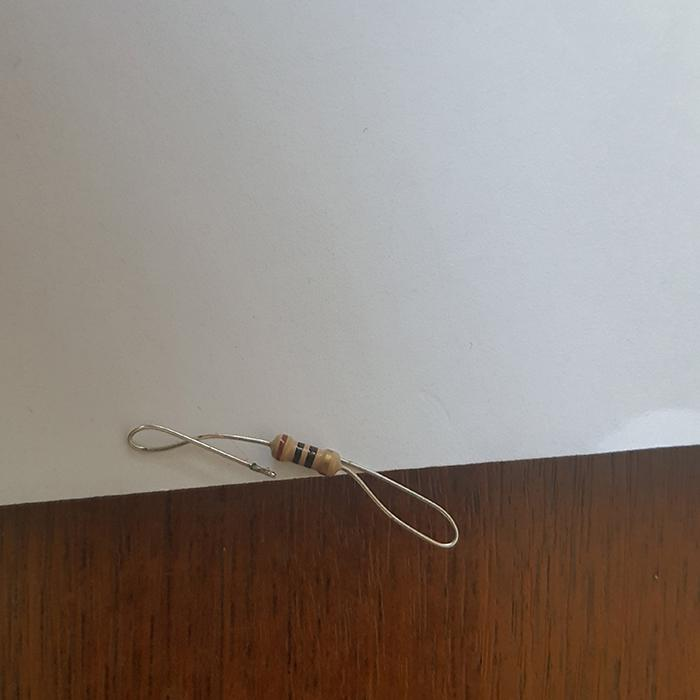resistor: (269, 432, 342, 475)
